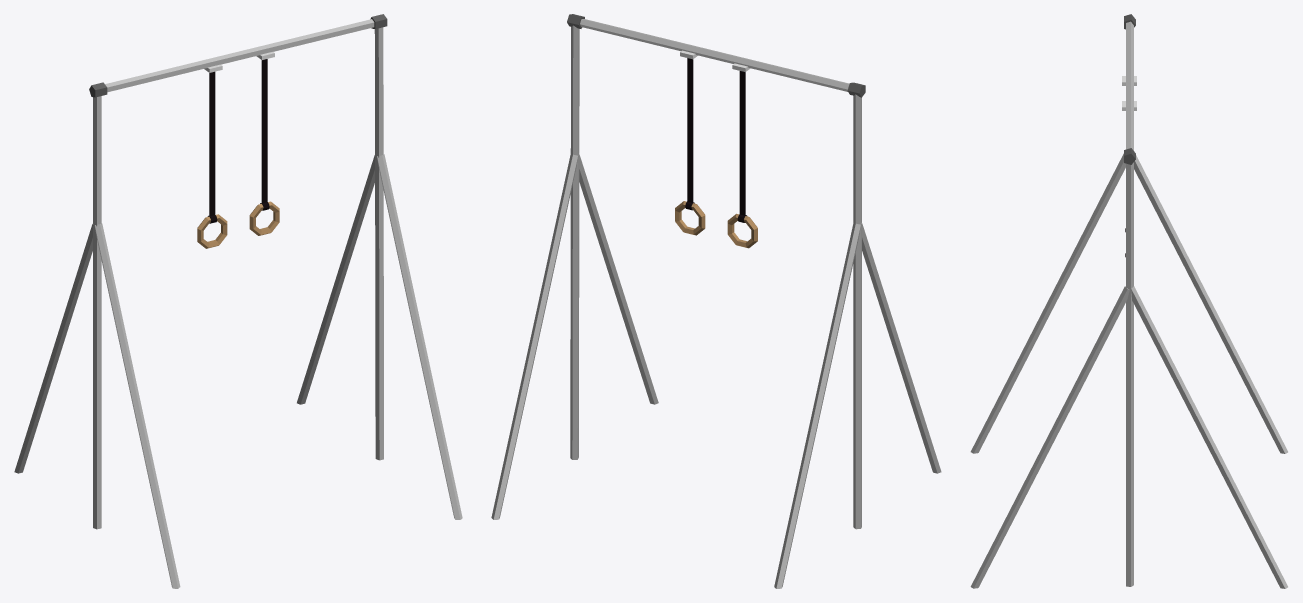
Rendered from rings.fbx.
3 views of the same model, side by side, from view 1: azimuth 30°, elevation 25°; view 2: azimuth 150°, elevation 25°; view 3: azimuth 270°, elevation 25° (orthographic). The views are drawn at different scales.
Visible parts, largest first — view 1: Cylinder.001, Cylinder.004, Cylinder.006, Cylinder.007, Cylinder.003, Cylinder.002, Cylinder.005, Strap.002, Strap.003; view 2: Cylinder.001, Cylinder.004, Cylinder.002, Cylinder.005, Cylinder.003, Cylinder.006, Cylinder.007, Strap.003, Strap.002; view 3: Cylinder.001, Cylinder.007, Cylinder.005, Cylinder.006, Cylinder.002, Cylinder.003.
Boxes of the visible parts, left/top/right/bottom form: Cylinder.001: left=374, top=27, right=383, bottom=460; Cylinder.004: left=93, top=96, right=101, bottom=529; Cylinder.006: left=94, top=223, right=180, bottom=588; Cylinder.007: left=377, top=154, right=462, bottom=519; Cylinder.003: left=105, top=19, right=374, bottom=92; Cylinder.002: left=14, top=223, right=94, bottom=473; Cylinder.005: left=297, top=155, right=374, bottom=404; Strap.002: left=207, top=71, right=217, bottom=223; Strap.003: left=260, top=59, right=269, bottom=210; Cylinder.001: left=570, top=25, right=579, bottom=459; Cylinder.004: left=853, top=94, right=861, bottom=529; Cylinder.002: left=774, top=223, right=860, bottom=588; Cylinder.005: left=491, top=154, right=577, bottom=519; Cylinder.003: left=580, top=19, right=849, bottom=91; Cylinder.006: left=861, top=223, right=941, bottom=473; Cylinder.007: left=579, top=154, right=658, bottom=404; Strap.003: left=685, top=58, right=694, bottom=210; Strap.002: left=737, top=71, right=746, bottom=222; Cylinder.001: left=1126, top=162, right=1133, bottom=586; Cylinder.007: left=970, top=286, right=1129, bottom=588; Cylinder.005: left=1131, top=286, right=1287, bottom=588; Cylinder.006: left=970, top=153, right=1125, bottom=453; Cylinder.002: left=1134, top=155, right=1287, bottom=453; Cylinder.003: left=1126, top=21, right=1133, bottom=150.
Bounding box in the file's own units: 2231 × 3246 × 2147.
